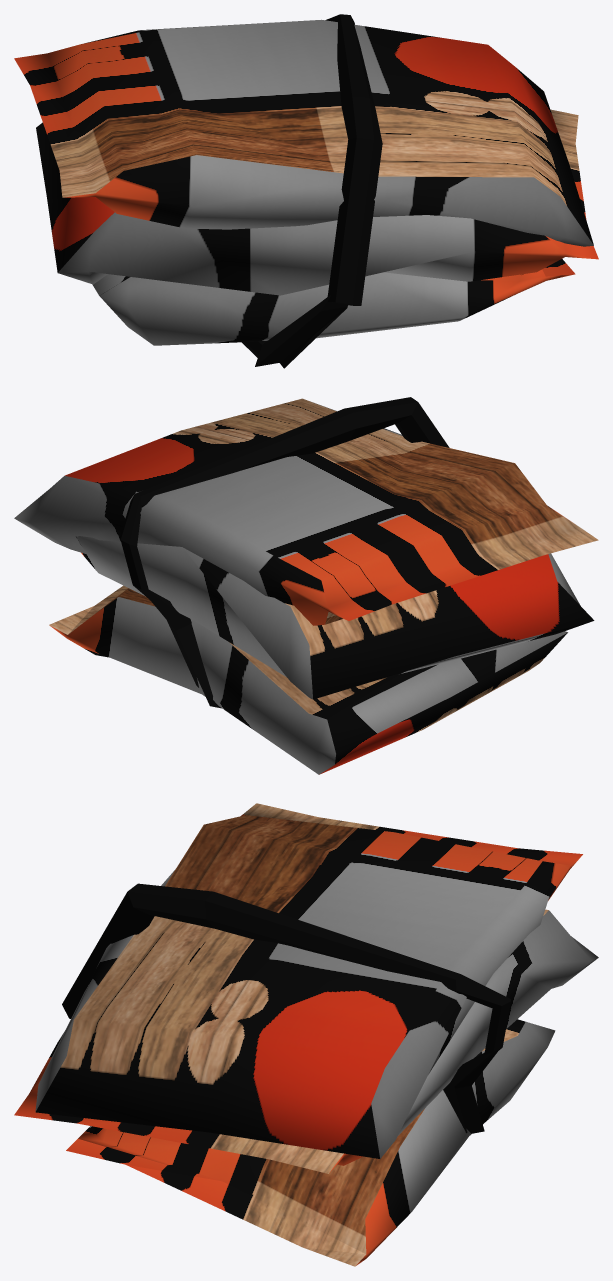
File: KS_HotPacket_Pack.fbx
The picture shows the model from 3 angles, top to bottom: view 1: azimuth 30°, elevation 25°; view 2: azimuth 150°, elevation 25°; view 3: azimuth 270°, elevation 25°; orthographic projection. The views are drawn at different scales.
Parts seen in each view (by area): view 1: ColdPack.002; view 2: ColdPack.002; view 3: ColdPack.002.
Boxes of the visible parts, x1,y1,x2,y2 form: ColdPack.002: (14,14,598,368); ColdPack.002: (14,397,598,774); ColdPack.002: (14,803,598,1266).
Size of the model in its own units: 0.0367 by 0.0156 by 0.0314.
